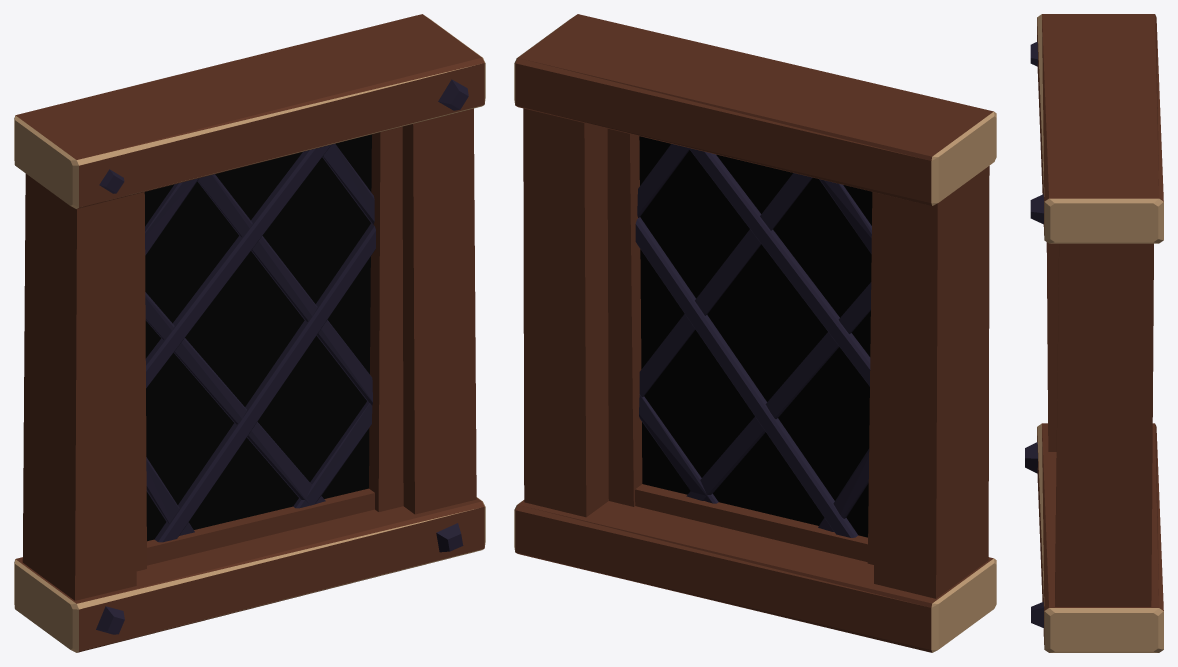
File: MCastle_Window_02.FBX
The picture shows the model from 3 angles, left to right: view 1: azimuth 30°, elevation 25°; view 2: azimuth 150°, elevation 25°; view 3: azimuth 270°, elevation 25°; orthographic projection. The views are drawn at different scales.
Parts seen in each view (by area): view 1: MCastle_Window_02_LOD0, MCastle_Window_02_Glass; view 2: MCastle_Window_02_LOD0, MCastle_Window_02_Glass; view 3: MCastle_Window_02_LOD0.
Part boxes in pixels (box(x1,y1,x2,y2)): MCastle_Window_02_LOD0: box(14, 14, 485, 652); MCastle_Window_02_Glass: box(144, 134, 371, 541); MCastle_Window_02_LOD0: box(514, 14, 996, 652); MCastle_Window_02_Glass: box(639, 136, 872, 537); MCastle_Window_02_LOD0: box(1025, 14, 1163, 652).
Size of what is drawn, in the model's own units: 1.26 by 1.43 by 0.3943.
